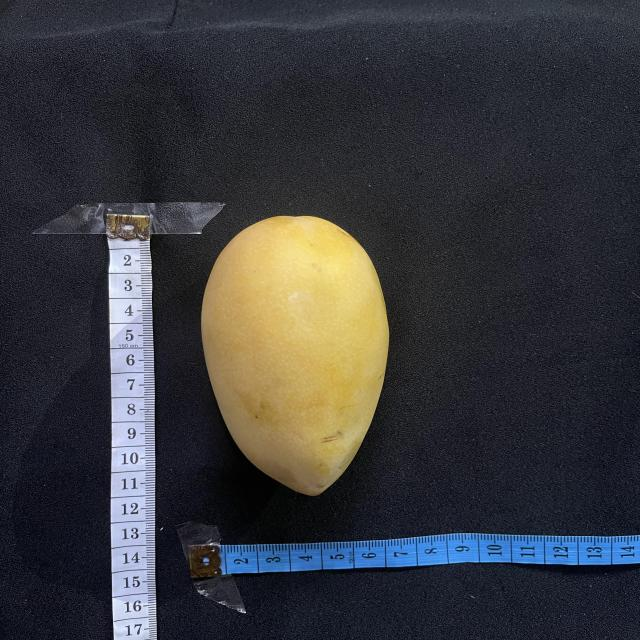Ripe: (201, 216, 389, 496)
